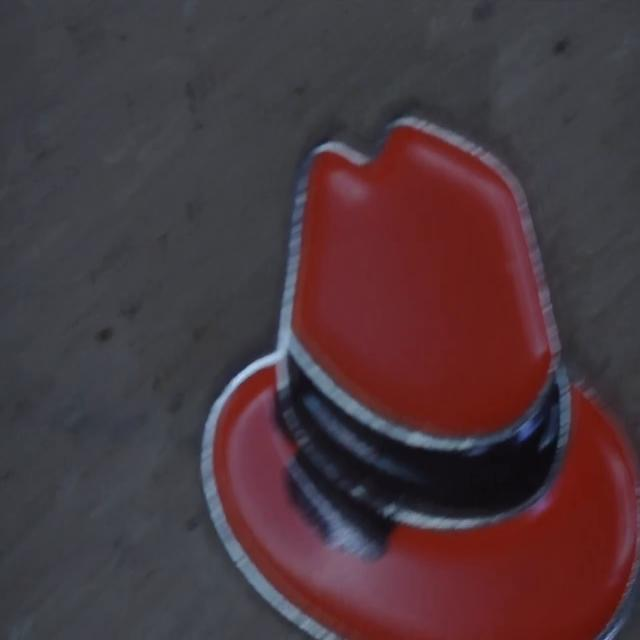Hatband: (279, 336, 571, 526)
Paint_Leak: (289, 451, 391, 559)
RedHatPin: (201, 120, 640, 637)
